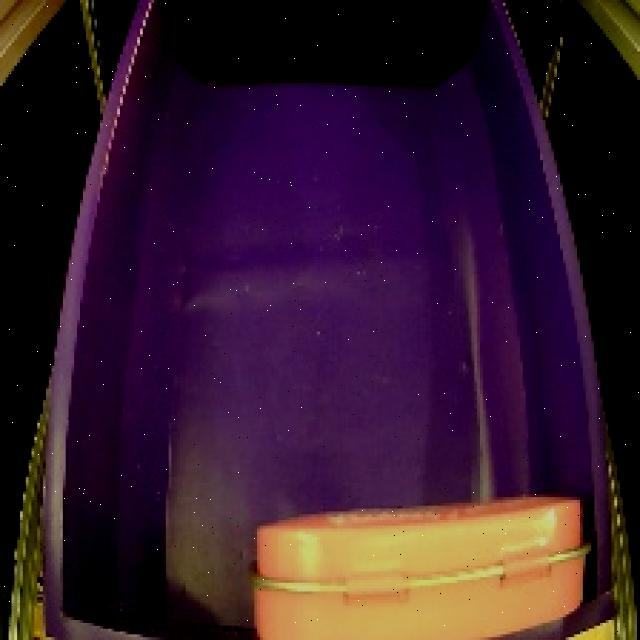metal: (232, 460, 613, 640)
